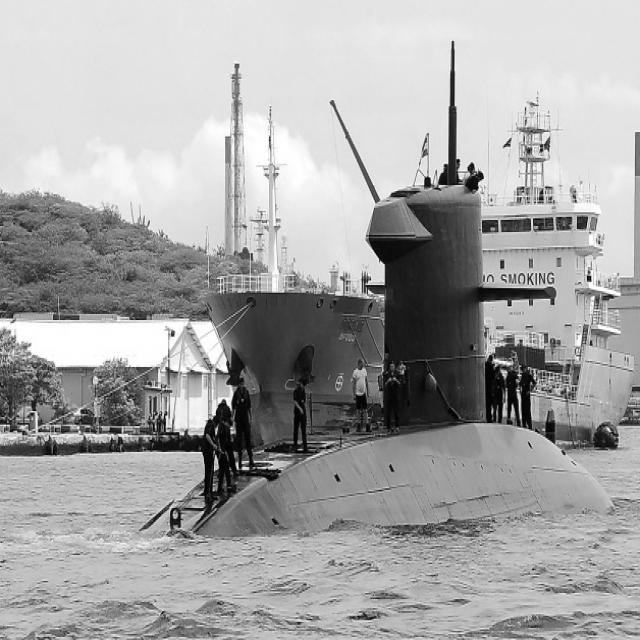submarine: (1, 37, 605, 581)
